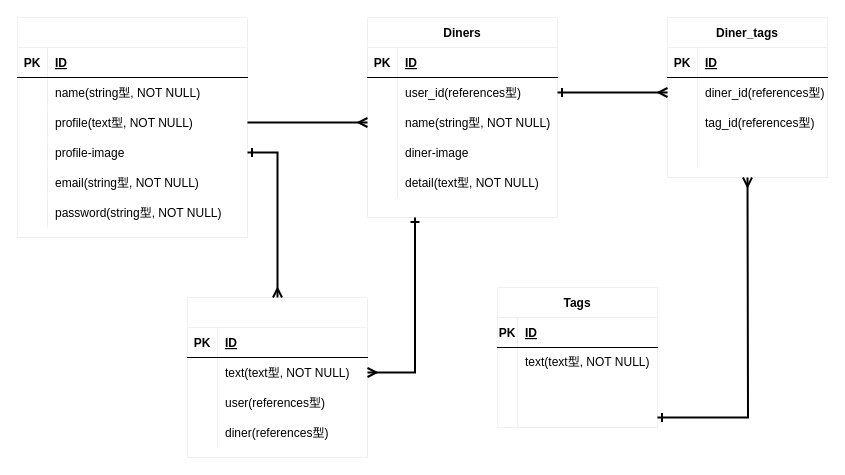
Image size: 845x475. Some labels were removed from this diagram. The shapes that lost their labels are listed below. From the top down, each one's box as (x1, y1, x2, y2) in pixels, then its label:
(16, 16, 248, 238): User
(186, 296, 368, 458): Comments
